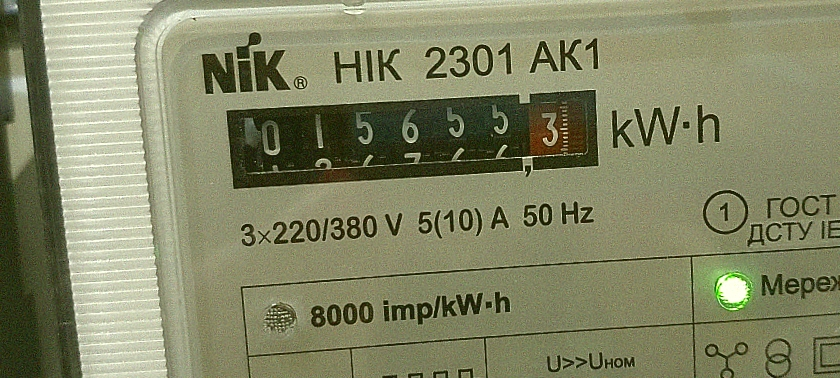0: (256, 115, 284, 157)
1: (308, 111, 329, 151)
3: (538, 110, 559, 147)
5: (350, 109, 376, 146), (443, 105, 467, 138), (489, 102, 510, 135)
6: (397, 107, 422, 144)
screen: (210, 69, 615, 206)
